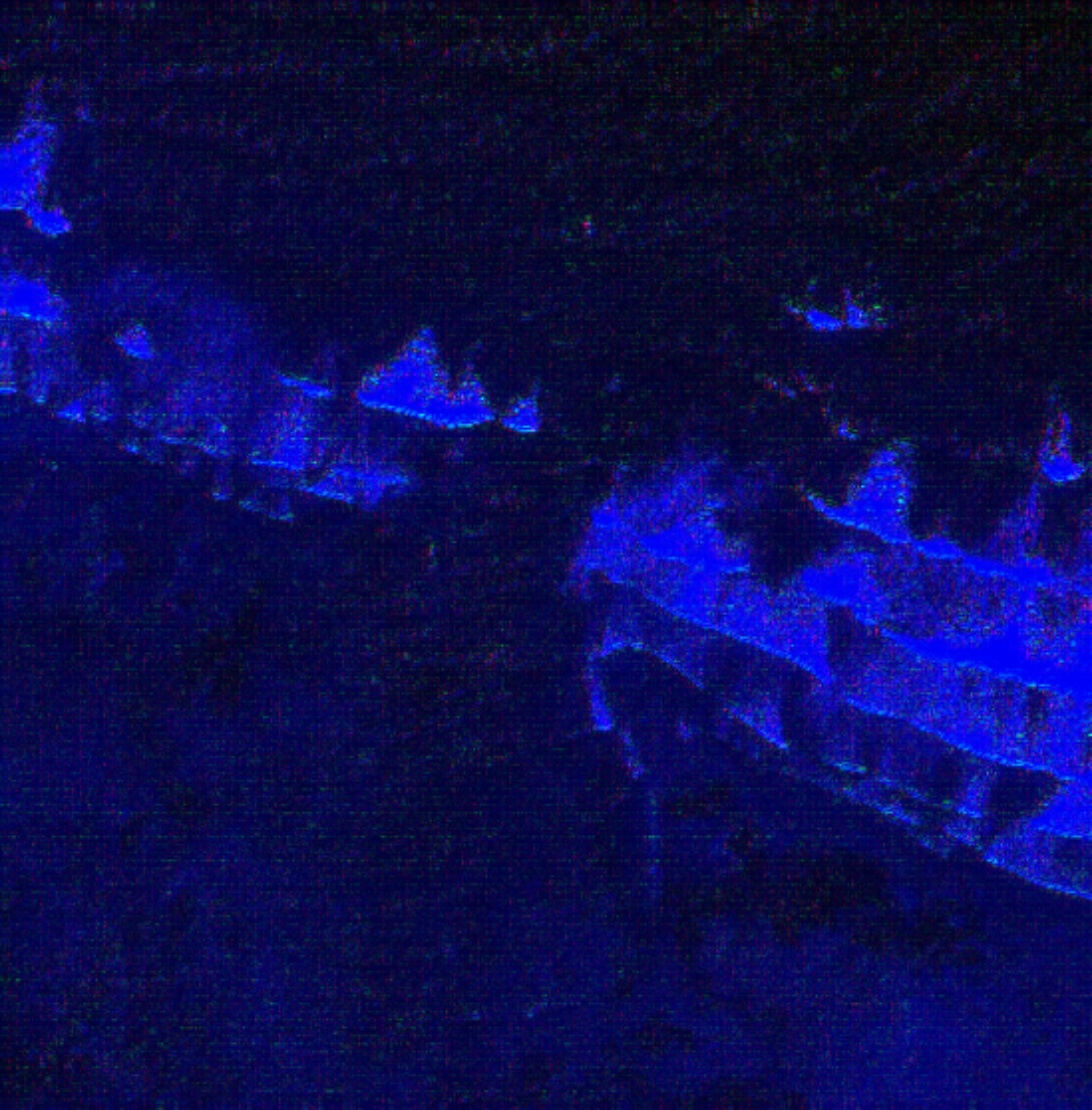rip_current: (275, 314, 679, 728)
